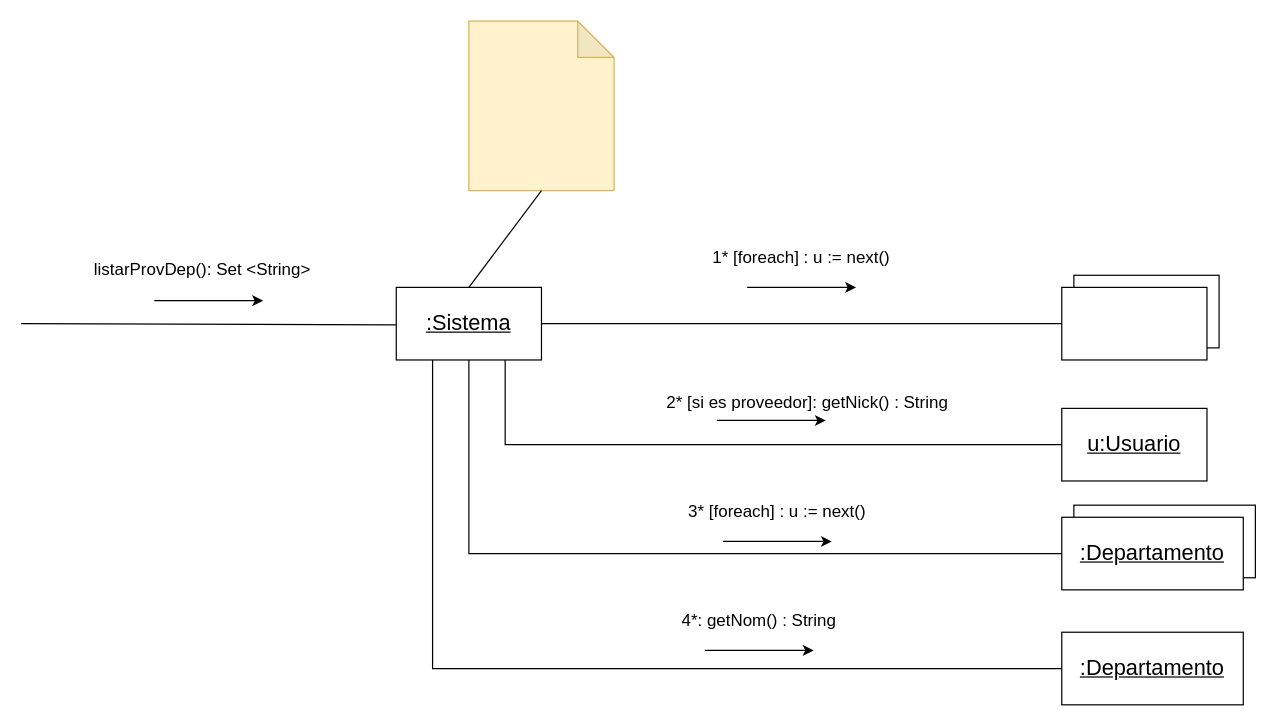
Some shapes in this 1277 by 726 pixel diagram are drawn without their labels. Each missing label, with the centre of its shape:
":Usuario" belongs at [1134,323].
"El sistema devuelve una lista con todos los proveedores y departamentos" belongs at [541,105].
